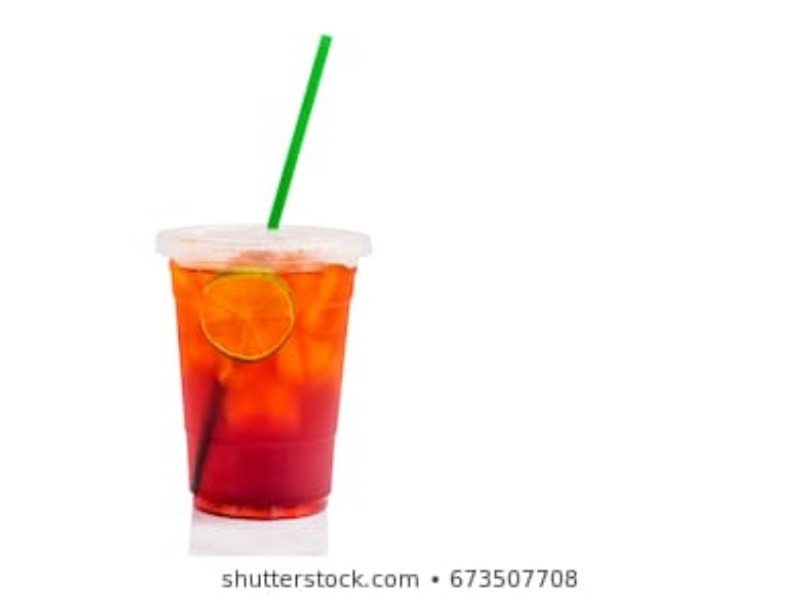plastic-cup: (188, 33, 333, 496)
straw: (147, 219, 369, 525), (266, 33, 332, 238)
